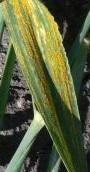Wheat: (14, 7, 69, 90)
